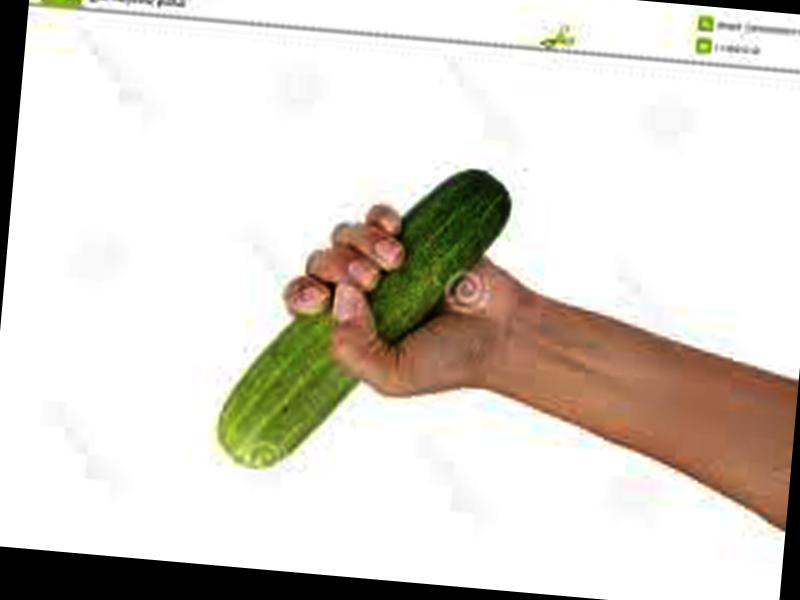Cucumber: (215, 149, 520, 486)
